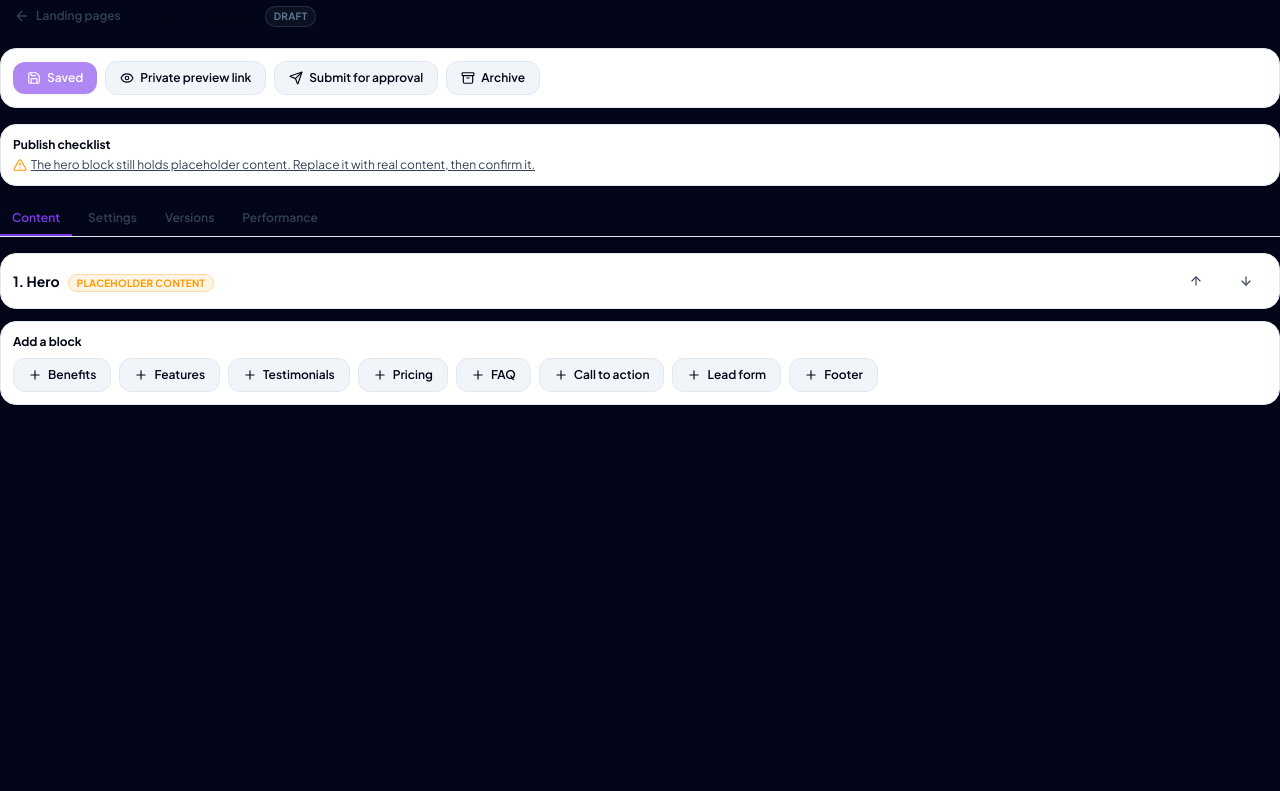
Test: LandingEditor › blocks submission while the checklist has issues and offers the placeholder confirmation
Expected: the text "Draft" is shown, [265, 6, 316, 26]
Expected: the button "Submit for approval" is disabled, [274, 61, 438, 95]
Click the button "1. Hero" at (43, 281), box [13, 271, 1167, 291]
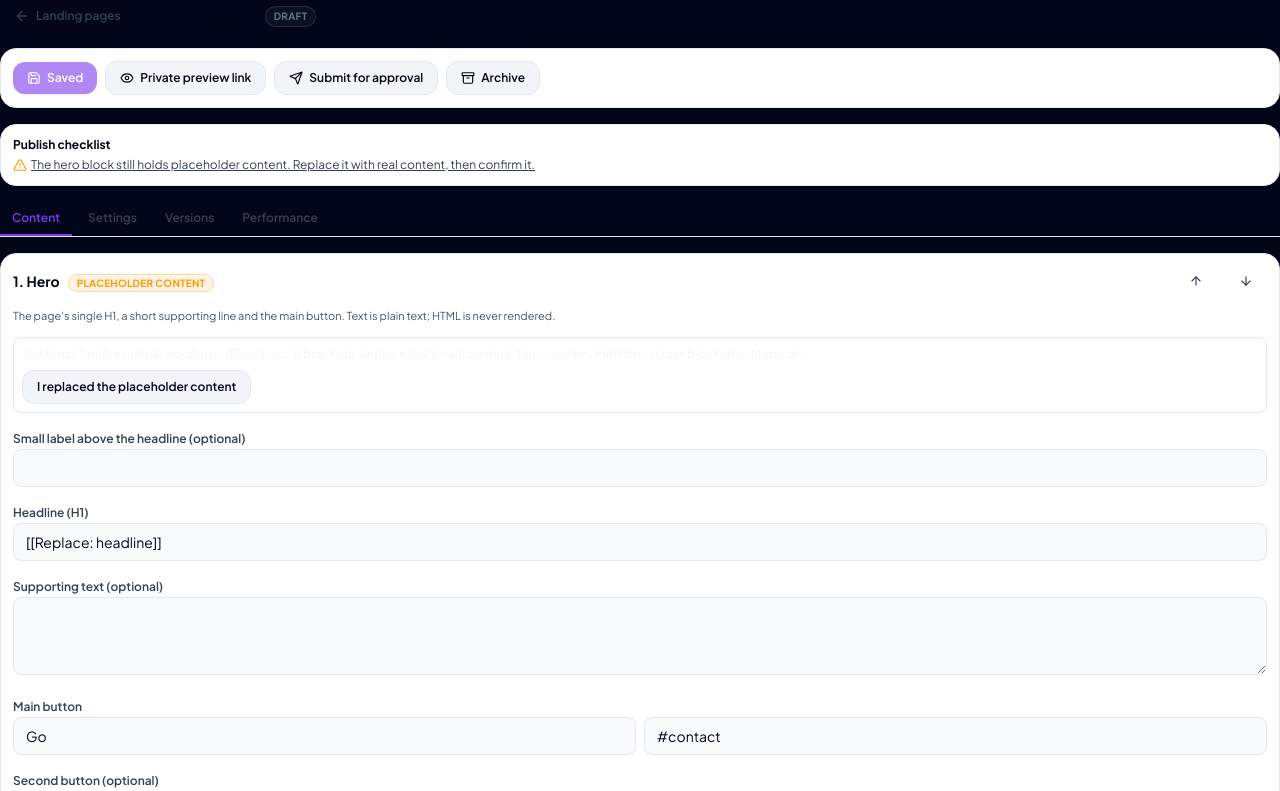
Expected: the button "I replaced the placeholder content" is shown, [22, 370, 251, 404]
